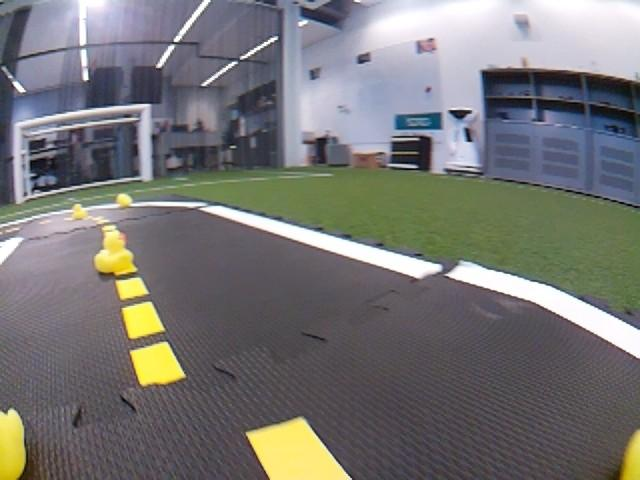Duckies: (0, 405, 25, 479), (96, 233, 134, 273), (623, 429, 640, 480), (72, 204, 88, 218), (116, 194, 132, 207)
